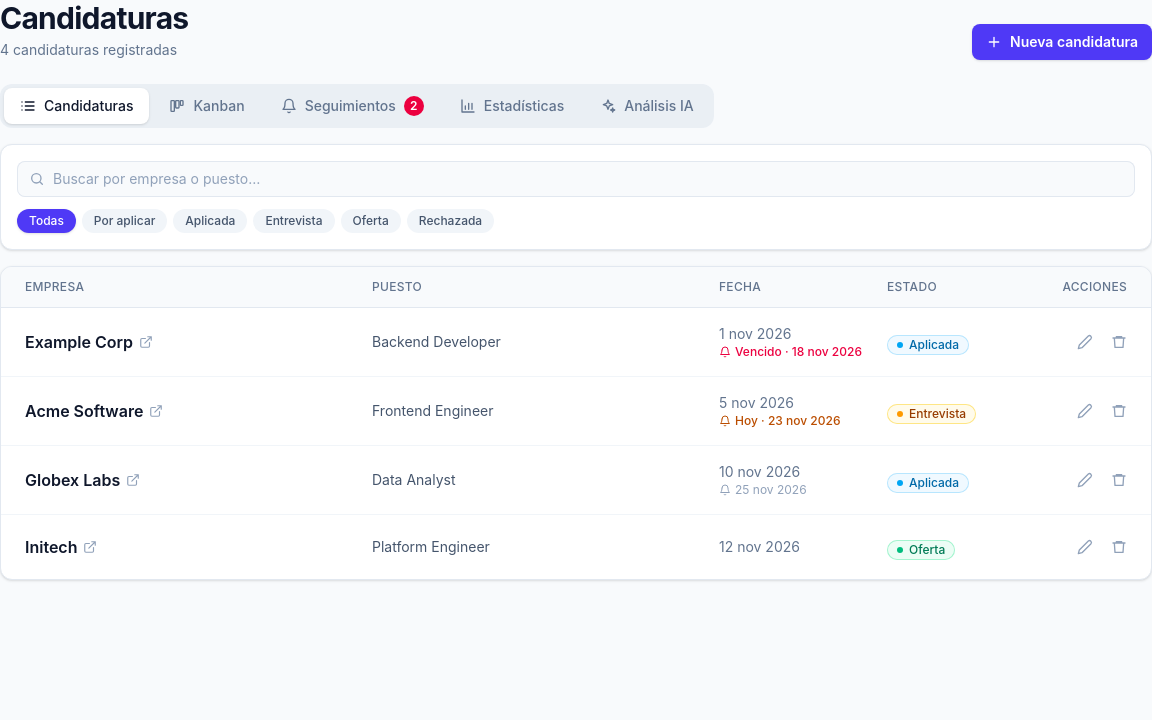
Scenario: ApplicationsPage follow-ups › changes the follow-up date from the follow-ups view
This screenshot has width=1152, height=720.
Check: the text "2" is shown, box [404,96,424,116]
Step 1. Click the tab "Seguimientos 2" → click(352, 106), box [265,88,440,124]
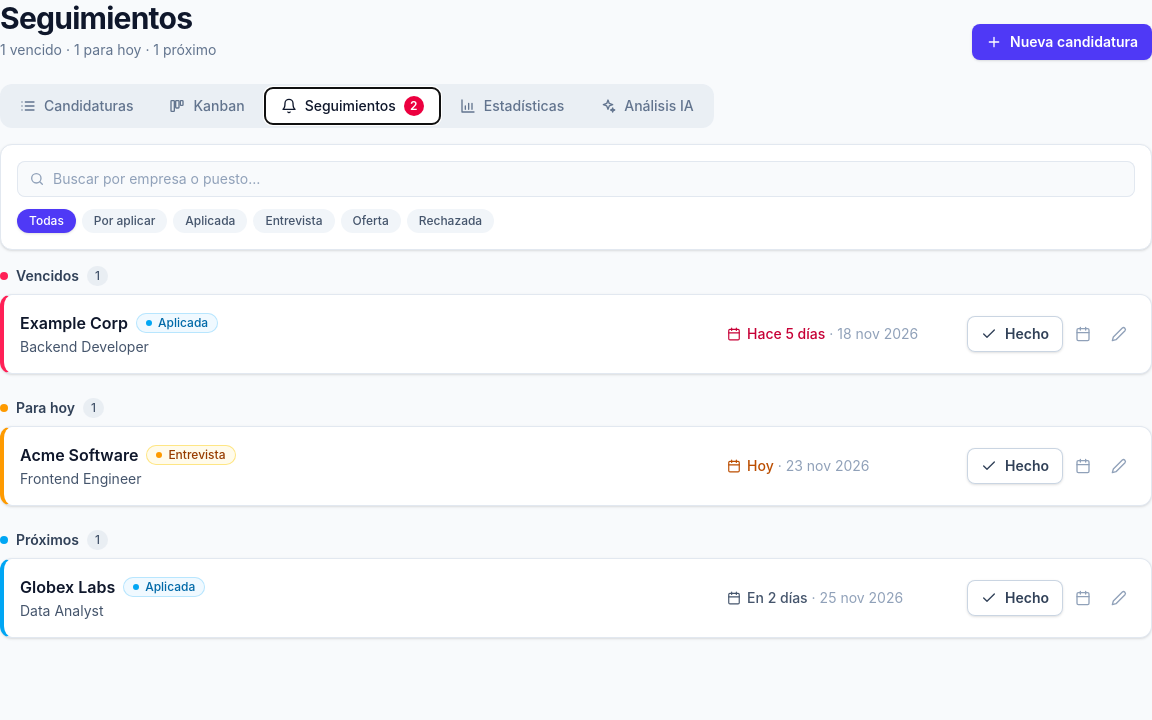
Check: the element "Vencidos" is shown, box [0,266,1151,374]
Step 2. Click the button named "Cambiar fecha de seguimiento de Backend Developer en Example Corp" → click(1083, 334), box [1067,318,1099,350]
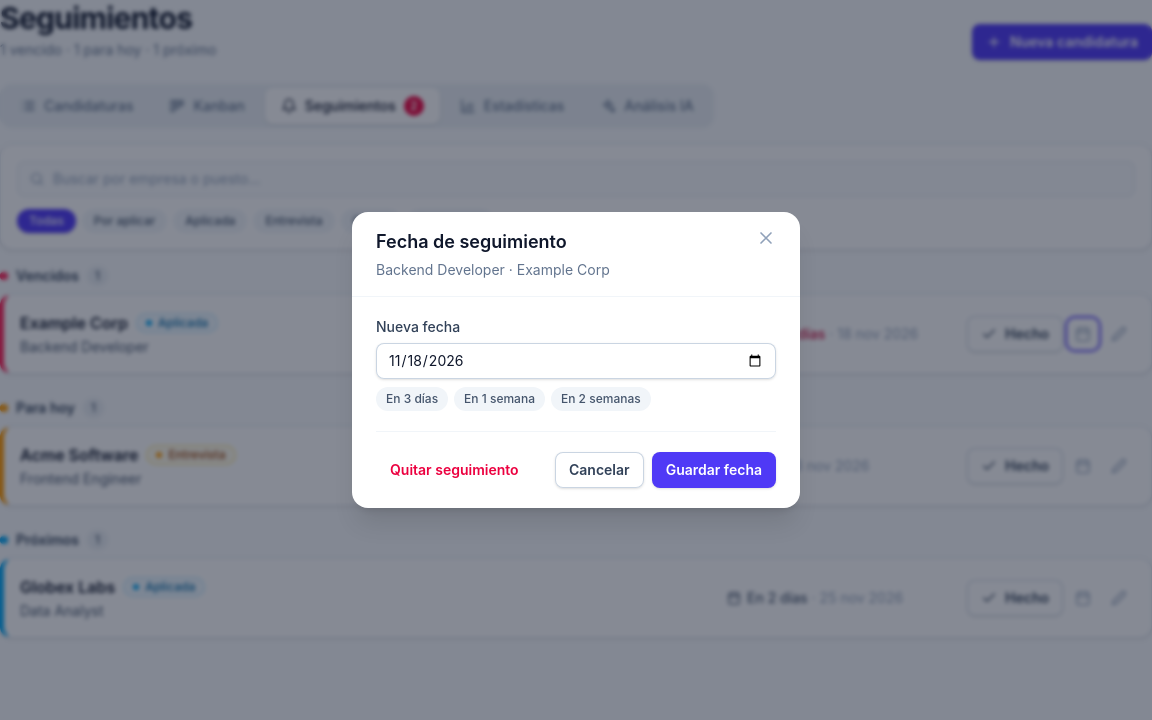
Check: the date field labelled "Nueva fecha" holds "2026-11-18", box [376,343,776,379]
Step 3. Click the button "En 2 semanas" → click(601, 399), box [551,387,651,411]
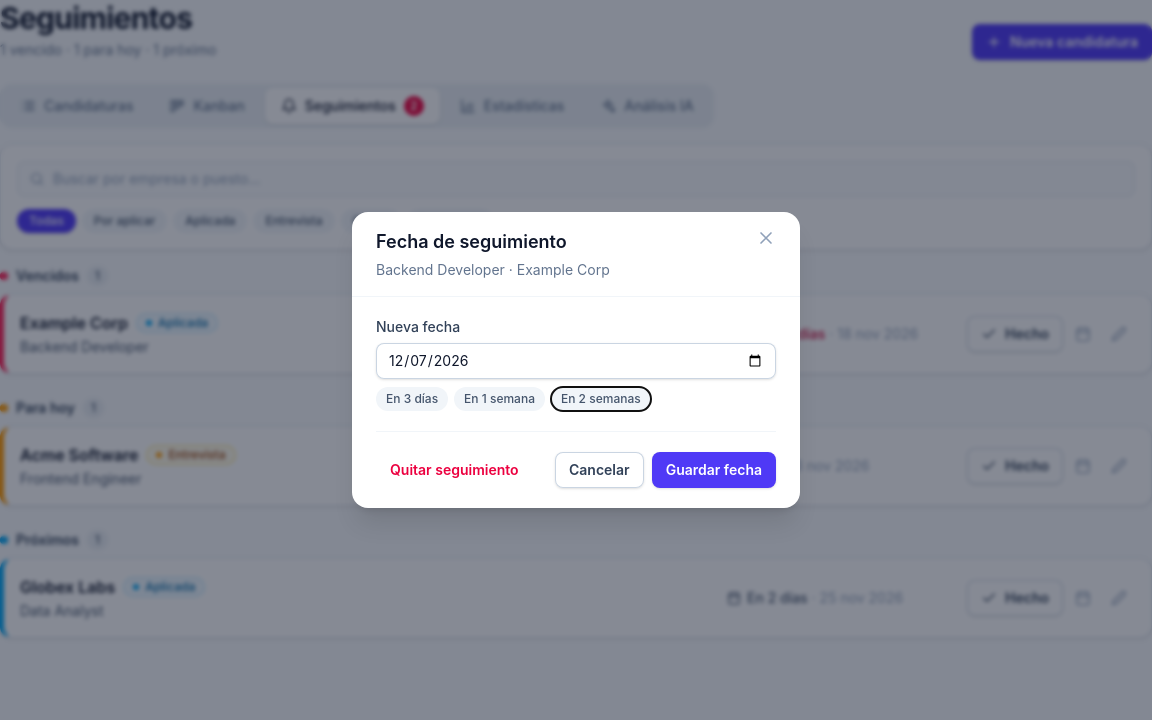
Step 4. Click the button "Guardar fecha" → click(714, 470), box [652,452,776,488]
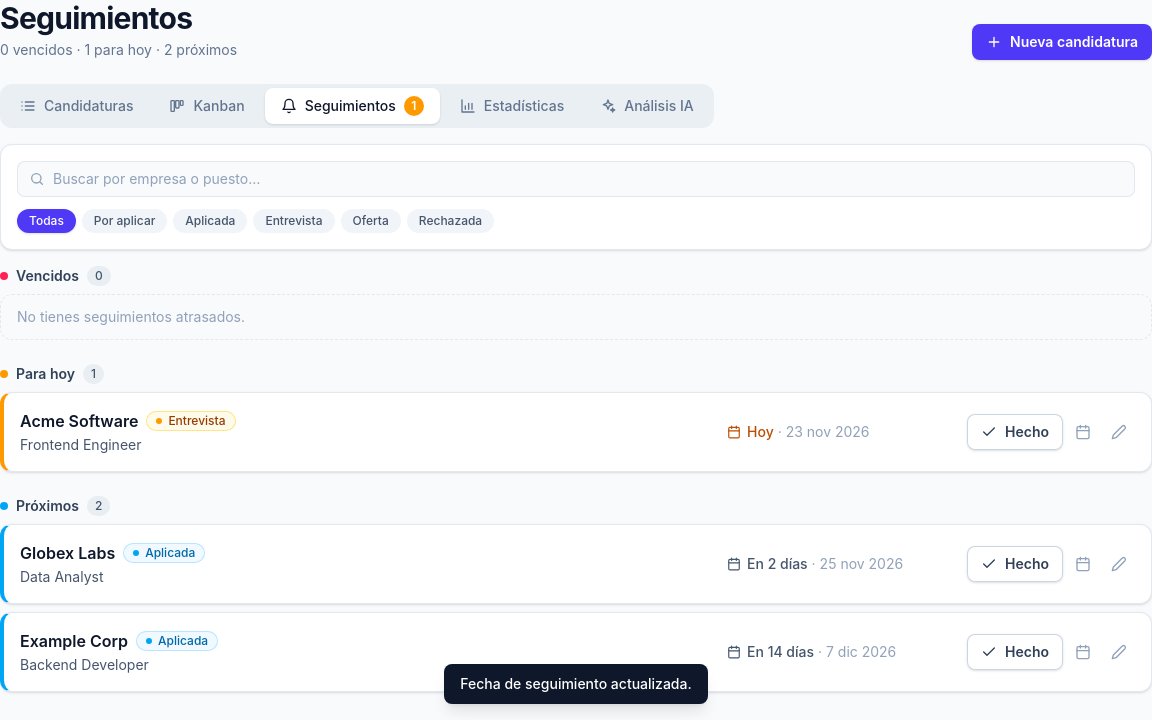
Check: the message reads "Fecha de seguimiento actualizada.", box [460,675,692,692]
